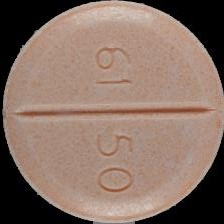43353-690: (0, 0, 224, 224)
